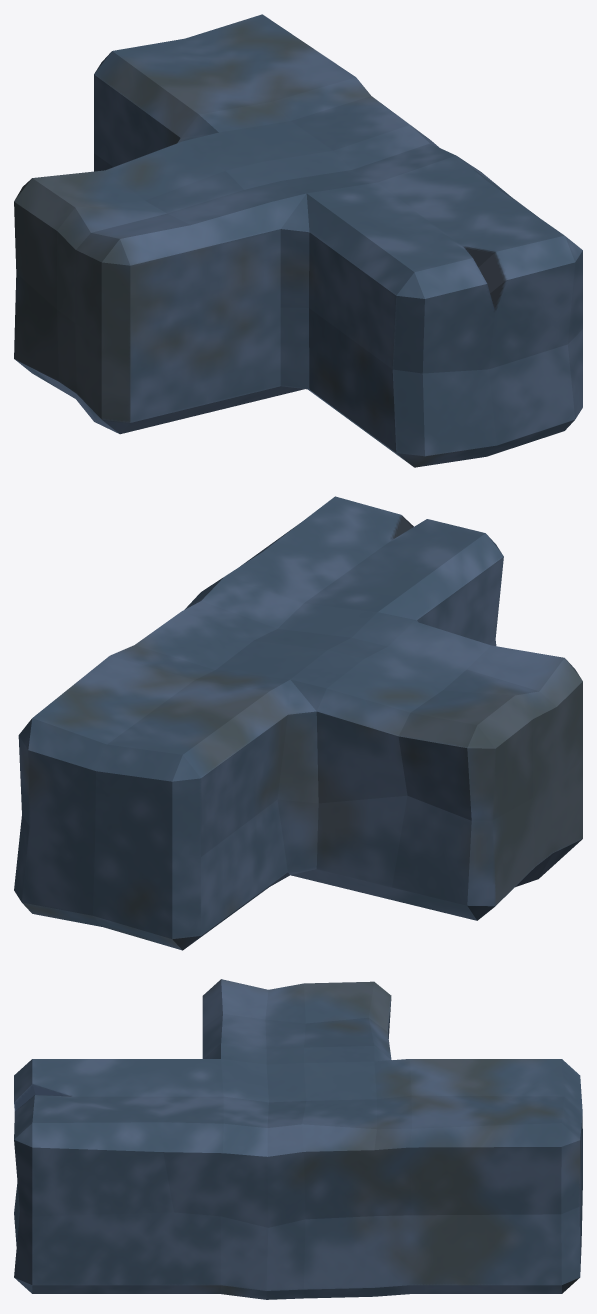
The model's file is Tetris_5.fbx.
3 views of the same model, one above another, from view 1: azimuth 30°, elevation 25°; view 2: azimuth 150°, elevation 25°; view 3: azimuth 270°, elevation 25° (orthographic). The views are drawn at different scales.
Visible parts, largest first — view 1: Tetris_1.007; view 2: Tetris_1.007; view 3: Tetris_1.007.
Boxes of the visible parts, x1,y1,x2,y2 form: Tetris_1.007: (14, 14, 582, 467); Tetris_1.007: (14, 496, 582, 950); Tetris_1.007: (14, 979, 582, 1299).
Size of the model in its own units: 408 by 215 by 603.
